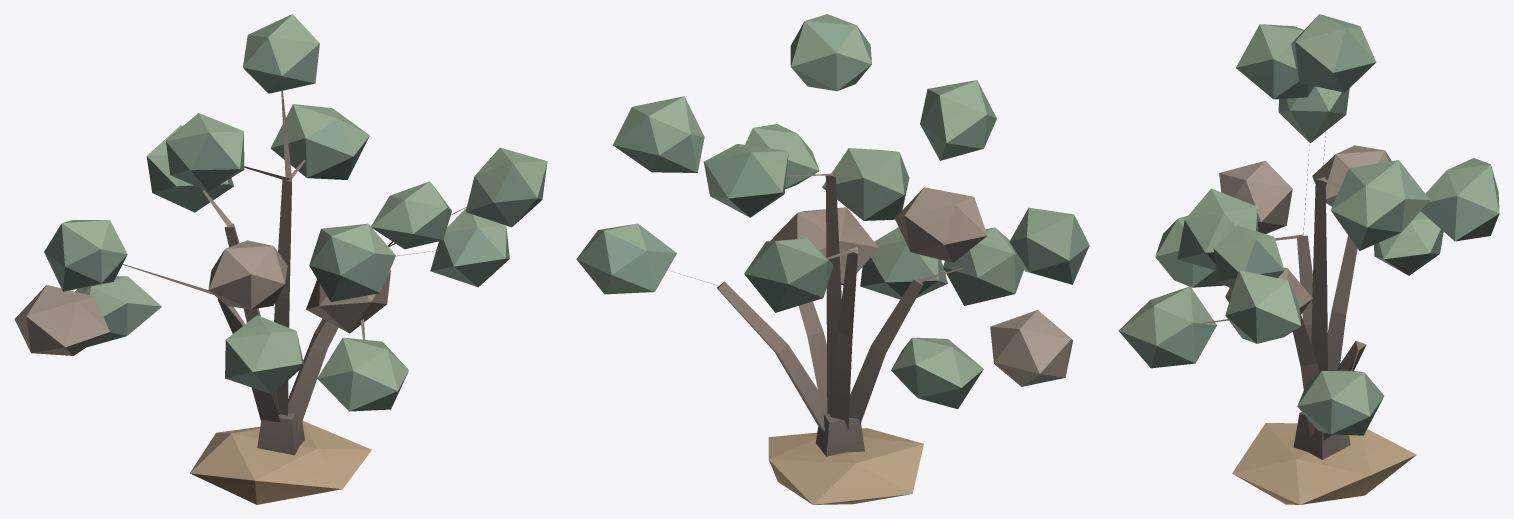
File: creosote.lod1.glb
The picture shows the model from 3 angles, left to right: view 1: azimuth 30°, elevation 25°; view 2: azimuth 150°, elevation 25°; view 3: azimuth 270°, elevation 25°; orthographic projection. The views are drawn at different scales.
Size of the model in its own units: 2.97 by 2.74 by 2.01.
